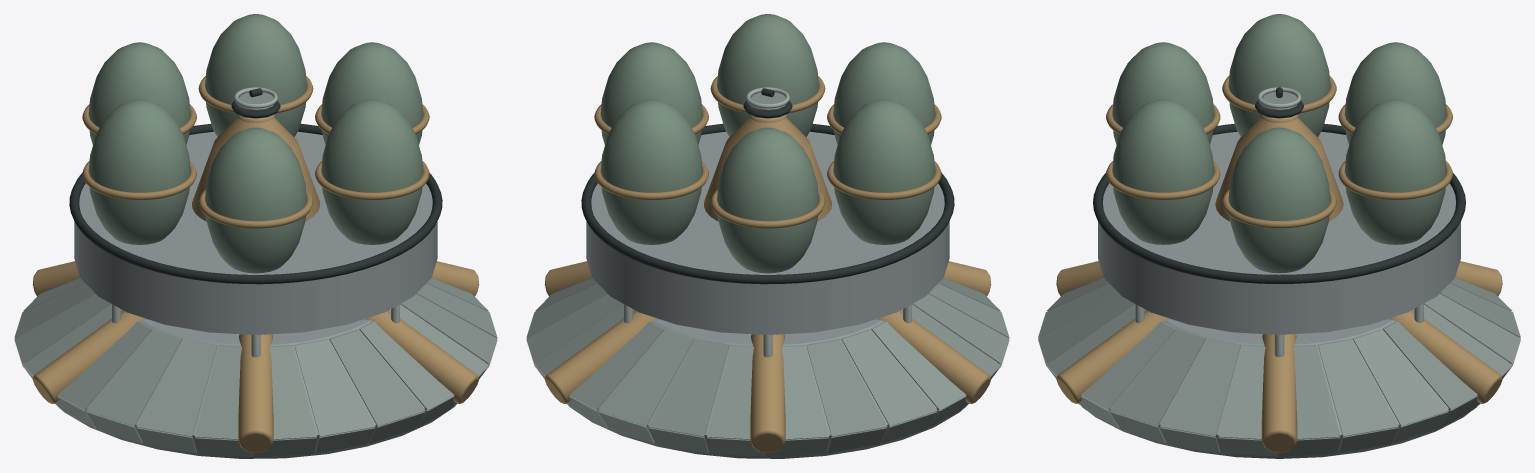
3 views of the same model, side by side, from view 1: azimuth 30°, elevation 25°; view 2: azimuth 150°, elevation 25°; view 3: azimuth 270°, elevation 25° (orthographic).
Parts seen in each view (by area): view 1: Reactor plinth armour, Reactor raised deck, Reactor cooling vessel.005, Reactor cooling vessel.003, Reactor cooling vessel.004, Reactor cooling vessel.001, Reactor cooling vessel, Reactor cooling vessel.002, Reactor deck expansion joint, Reactor flared base, Reactor radial conduit.004, Reactor radial conduit.003 (+8 smaller); view 2: Reactor plinth armour, Reactor raised deck, Reactor cooling vessel.001, Reactor cooling vessel.003, Reactor cooling vessel.002, Reactor cooling vessel.005, Reactor cooling vessel, Reactor cooling vessel.004, Reactor deck expansion joint, Reactor flared base, Reactor radial conduit.002, Reactor radial conduit.003 (+8 smaller); view 3: Reactor plinth armour, Reactor raised deck, Reactor cooling vessel, Reactor cooling vessel.001, Reactor cooling vessel.005, Reactor cooling vessel.003, Reactor cooling vessel.002, Reactor cooling vessel.004, Reactor deck expansion joint, Reactor flared base, Reactor radial conduit, Reactor radial conduit.001 (+8 smaller).
Part boxes in pixels (bbox=[...]): Reactor plinth armour: bbox=[14, 278, 497, 456]; Reactor raised deck: bbox=[74, 131, 437, 334]; Reactor cooling vessel.005: bbox=[321, 99, 423, 244]; Reactor cooling vessel.003: bbox=[88, 99, 190, 244]; Reactor cooling vessel.004: bbox=[205, 127, 306, 273]; Reactor cooling vessel.001: bbox=[205, 14, 306, 136]; Reactor cooling vessel: bbox=[321, 42, 423, 144]; Reactor cooling vessel.002: bbox=[88, 42, 190, 144]; Reactor deck expansion joint: bbox=[69, 123, 442, 284]; Reactor flared base: bbox=[27, 319, 485, 458]; Reactor radial conduit.004: bbox=[238, 334, 273, 452]; Reactor radial conduit.003: bbox=[32, 310, 147, 403]; Reactor plinth armour: bbox=[526, 278, 1009, 456]; Reactor raised deck: bbox=[586, 131, 949, 334]; Reactor cooling vessel.001: bbox=[600, 99, 702, 244]; Reactor cooling vessel.003: bbox=[833, 99, 935, 244]; Reactor cooling vessel.002: bbox=[717, 127, 818, 273]; Reactor cooling vessel.005: bbox=[717, 14, 818, 136]; Reactor cooling vessel: bbox=[600, 42, 702, 144]; Reactor cooling vessel.004: bbox=[833, 42, 935, 144]; Reactor deck expansion joint: bbox=[581, 123, 954, 284]; Reactor flared base: bbox=[538, 319, 996, 458]; Reactor radial conduit.002: bbox=[750, 334, 785, 452]; Reactor radial conduit.003: bbox=[876, 310, 991, 403]; Reactor plinth armour: bbox=[1038, 278, 1520, 456]; Reactor raised deck: bbox=[1098, 131, 1460, 334]; Reactor cooling vessel: bbox=[1228, 127, 1330, 273]; Reactor cooling vessel.001: bbox=[1344, 99, 1446, 244]; Reactor cooling vessel.005: bbox=[1112, 99, 1214, 244]; Reactor cooling vessel.003: bbox=[1228, 14, 1330, 136]; Reactor cooling vessel.002: bbox=[1344, 42, 1446, 144]; Reactor cooling vessel.004: bbox=[1112, 42, 1214, 144]; Reactor deck expansion joint: bbox=[1093, 123, 1465, 283]; Reactor flared base: bbox=[1050, 319, 1508, 458]; Reactor radial conduit: bbox=[1261, 334, 1297, 452]; Reactor radial conduit.001: bbox=[1387, 310, 1502, 403].
Size of the model in its own units: 2.56 by 1.63 by 2.45.
